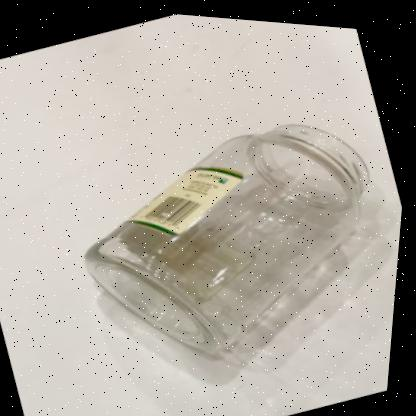Glass: (88, 118, 371, 352)
